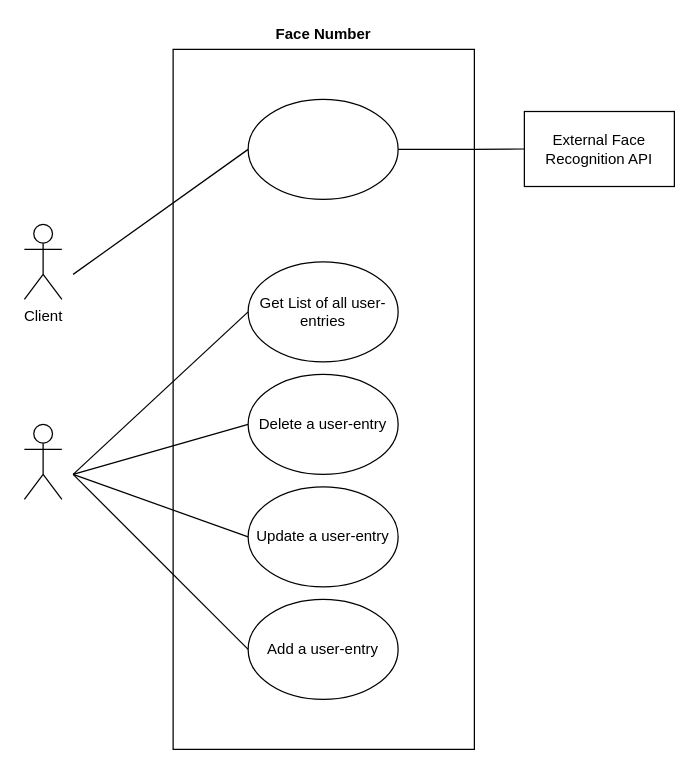
Image size: 696x771. Some labels were removed from this diagram. Each missing label, with the box of its shape:
Admin: (23, 423, 62, 499)
Get Personal Number: (247, 98, 398, 199)
